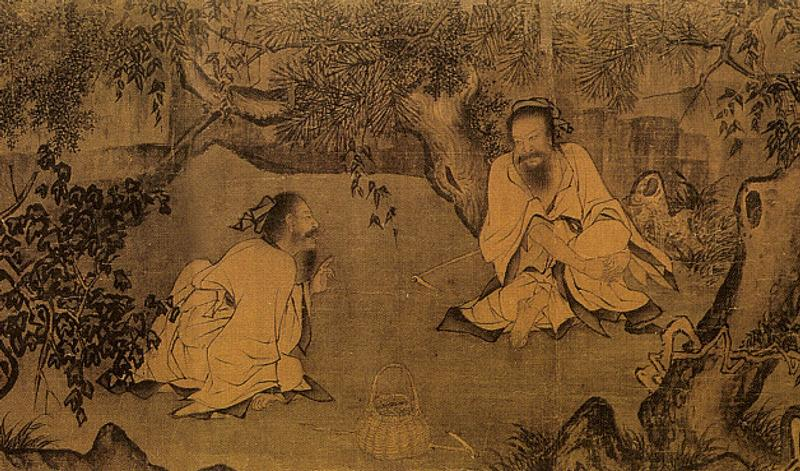man: (447, 88, 680, 345), (92, 175, 350, 405)
tree: (14, 1, 569, 229), (534, 37, 800, 459), (1, 156, 141, 433)
